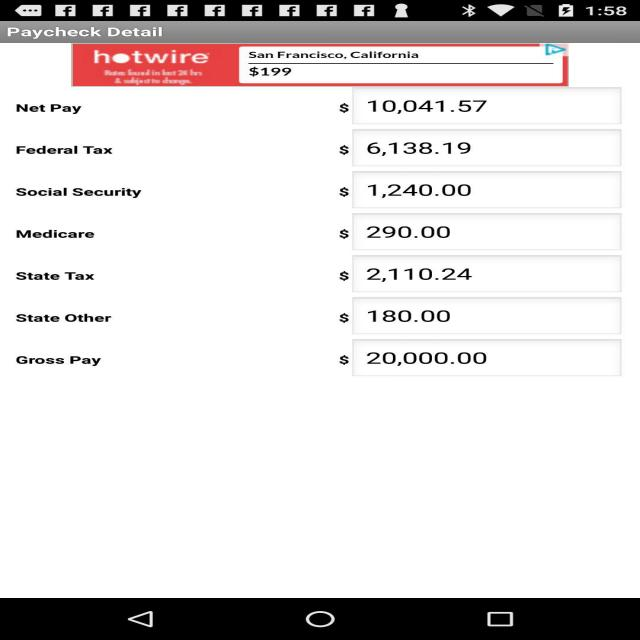image: (55, 36, 597, 86)
text: (19, 86, 639, 391), (11, 22, 210, 42)
